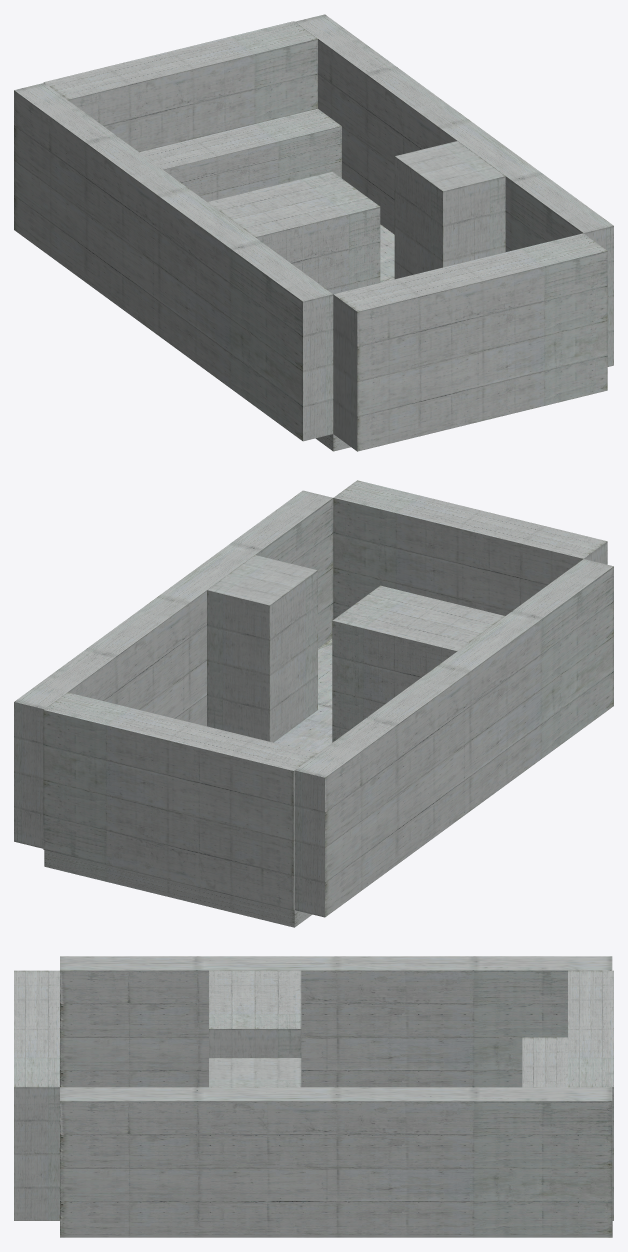
The model's file is Stage01.obj.
The picture shows the model from 3 angles, top to bottom: view 1: azimuth 30°, elevation 25°; view 2: azimuth 150°, elevation 25°; view 3: azimuth 270°, elevation 25°; orthographic projection. The views are drawn at different scales.
Parts seen in each view (by area): view 1: Wall_3, Wall_4, Wall_0, Wall_5, Wall_1, Wall_2, Upland_7, Ground_6; view 2: Wall_3, Wall_5, Wall_0, Wall_4, Wall_1, Wall_2, Ground_6; view 3: Wall_0, Wall_3, Wall_4, Wall_2, Wall_5, Wall_1, Upland_7, Ground_6.
Part boxes in pixels (<box>): Wall_3: <box>14,83,333,441</box>; Wall_4: <box>333,233,607,451</box>; Wall_0: <box>295,14,613,366</box>; Wall_5: <box>43,21,317,152</box>; Wall_1: <box>394,141,505,278</box>; Wall_2: <box>207,171,380,294</box>; Upland_7: <box>139,108,341,201</box>; Ground_6: <box>315,224,394,451</box>; Wall_3: <box>294,559,613,917</box>; Wall_5: <box>43,692,317,910</box>; Wall_0: <box>14,490,333,848</box>; Wall_4: <box>333,480,607,619</box>; Wall_1: <box>207,555,317,742</box>; Wall_2: <box>332,585,504,742</box>; Ground_6: <box>44,638,332,927</box>; Wall_0: <box>60,1087,612,1234</box>; Wall_3: <box>60,956,612,1087</box>; Wall_4: <box>14,970,59,1220</box>; Wall_2: <box>209,970,301,1057</box>; Wall_5: <box>568,970,613,1220</box>; Wall_1: <box>209,1058,301,1087</box>; Upland_7: <box>522,1037,567,1087</box>; Ground_6: <box>60,1221,612,1237</box>.
Bounding box in the file's own units: 18.64 × 9 × 32.57.
